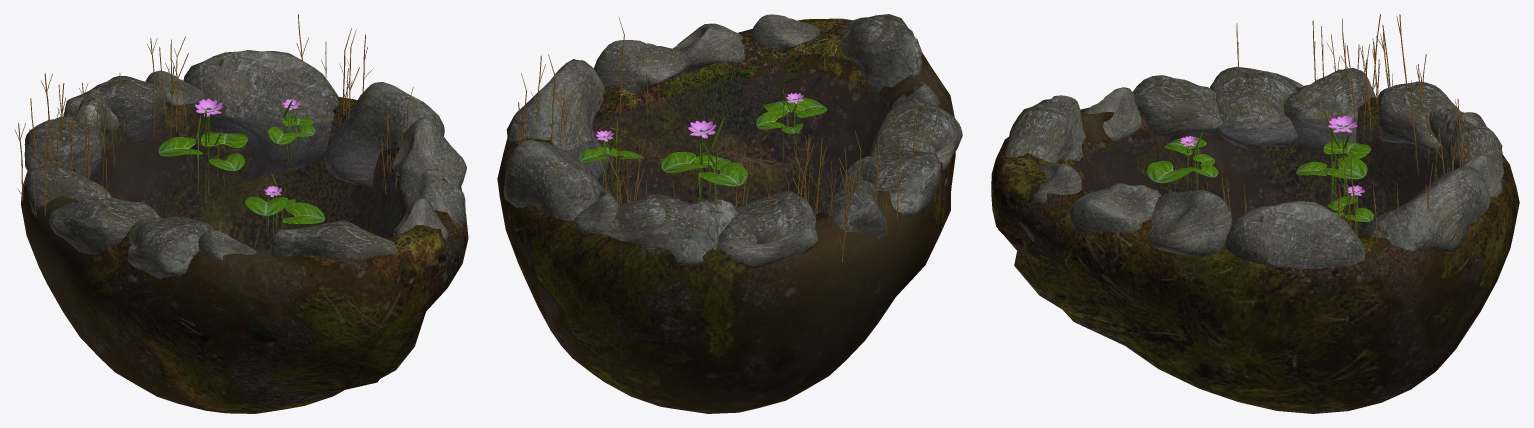
The model's file is fish_pond_e1ac8d65.glb.
3 renders of one model, left to right at view 1: azimuth 30°, elevation 25°; view 2: azimuth 150°, elevation 25°; view 3: azimuth 270°, elevation 25°, orthographic. The views are drawn at different scales.
Visible parts, largest first — view 1: fish_pond_e1ac8d65; view 2: fish_pond_e1ac8d65; view 3: fish_pond_e1ac8d65.
Boxes of the visible parts, left/top/right/bottom form: fish_pond_e1ac8d65: left=14, top=14, right=468, bottom=413; fish_pond_e1ac8d65: left=497, top=14, right=962, bottom=413; fish_pond_e1ac8d65: left=991, top=14, right=1519, bottom=413.
Bounding box in the file's own units: 7.7 × 6.13 × 9.33.
6 materials, 5 textured.
